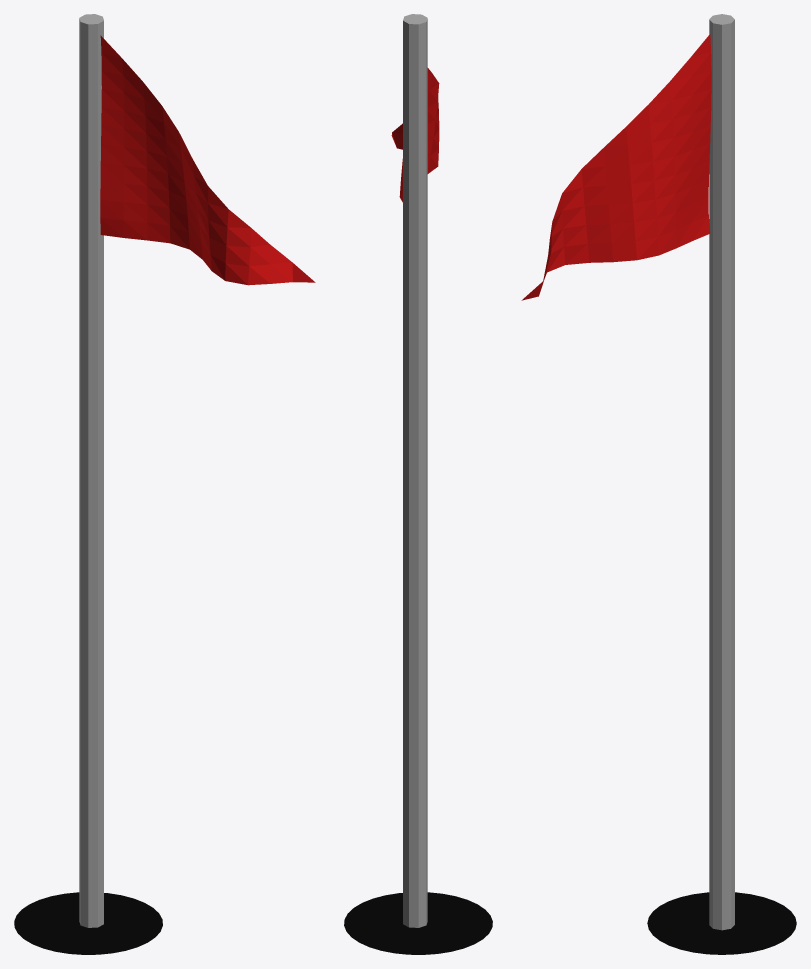
Rendered from GoalFlag.obj.
The picture shows the model from 3 angles, left to right: view 1: azimuth 30°, elevation 25°; view 2: azimuth 150°, elevation 25°; view 3: azimuth 270°, elevation 25°; orthographic projection.
Visible parts, largest first — view 1: Cylinder_001_6_0.001, Plane.001, Circle_Circle.001; view 2: Cylinder_001_6_0.001, Circle_Circle.001, Plane.001; view 3: Cylinder_001_6_0.001, Plane.001, Circle_Circle.001.
Part boxes in pixels (bbox=[...]): Cylinder_001_6_0.001: bbox=[79, 14, 103, 927]; Plane.001: bbox=[100, 35, 315, 285]; Circle_Circle.001: bbox=[14, 892, 162, 954]; Cylinder_001_6_0.001: bbox=[403, 14, 427, 927]; Circle_Circle.001: bbox=[344, 892, 492, 954]; Plane.001: bbox=[391, 68, 439, 202]; Cylinder_001_6_0.001: bbox=[709, 14, 734, 930]; Plane.001: bbox=[521, 34, 711, 300]; Circle_Circle.001: bbox=[647, 892, 796, 954].
Bounding box in the file's own units: 0.4759 × 2.17 × 0.5917.
